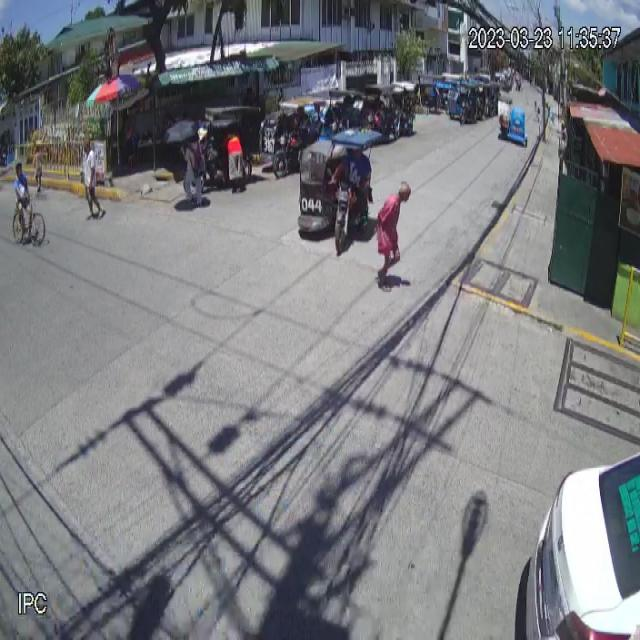Tricycle: (298, 126, 380, 256)
